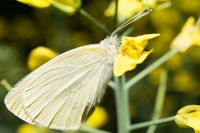insect: (4, 9, 150, 129)
